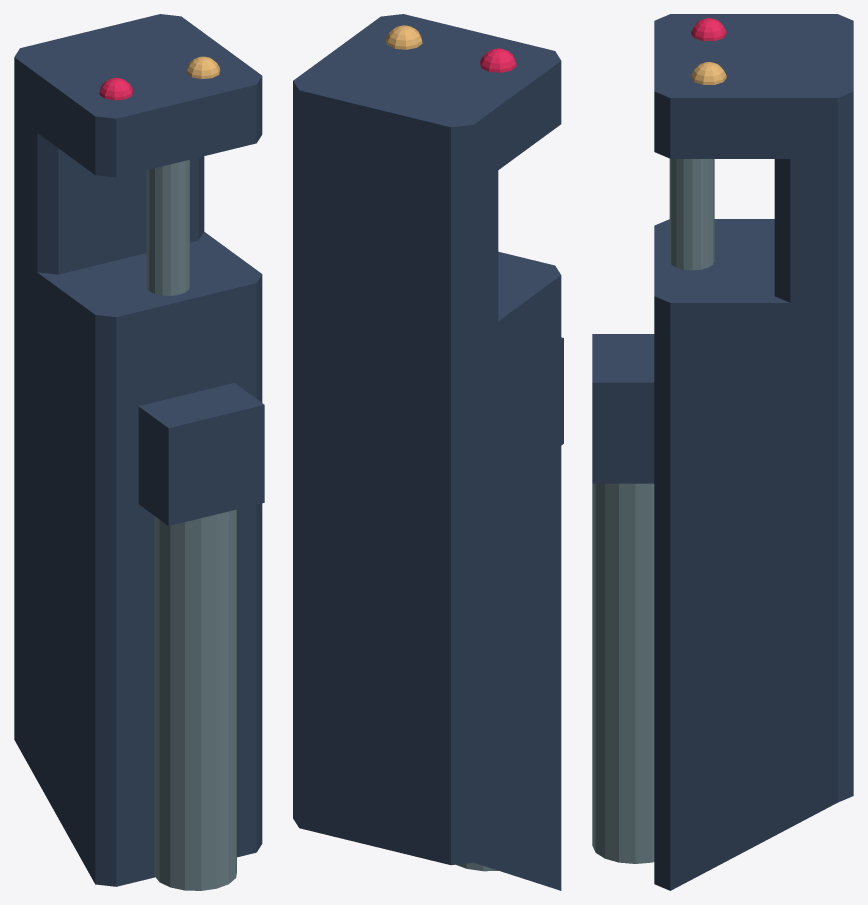
Rendered from Fuel_absorber_Body.fbx.
The picture shows the model from 3 angles, left to right: view 1: azimuth 30°, elevation 25°; view 2: azimuth 150°, elevation 25°; view 3: azimuth 270°, elevation 25°; orthographic projection. The views are drawn at different scales.
Visible parts, largest first — view 1: Cube, Cylinder.001, Cube.002, Cube.003, Cube.001, Cylinder.002, Sphere.001, Sphere; view 2: Cube, Cube.003, Cube.002, Sphere, Sphere.001; view 3: Cube, Cube.002, Cylinder.001, Cube.003, Cube.001, Cylinder.002, Sphere, Sphere.001.
Boxes of the visible parts, box(x1,y1,x2,y2) form: Cube: box(14, 231, 262, 886); Cylinder.001: box(154, 509, 236, 890); Cube.002: box(14, 14, 262, 177); Cube.003: box(14, 116, 204, 282); Cube.001: box(138, 383, 264, 525); Cylinder.002: box(146, 159, 189, 295); Sphere.001: box(186, 56, 220, 79); Sphere: box(99, 77, 133, 100); Cube: box(293, 251, 561, 890); Cube.003: box(293, 131, 498, 344); Cube.002: box(293, 14, 561, 190); Sphere: box(480, 48, 516, 72); Sphere.001: box(386, 25, 422, 49); Cube: box(654, 219, 853, 890); Cube.002: box(654, 14, 853, 158); Cylinder.001: box(592, 483, 654, 863); Cube.003: box(774, 139, 853, 314); Cube.001: box(592, 334, 654, 483); Cylinder.002: box(669, 159, 714, 270); Sphere: box(691, 18, 726, 40); Sphere.001: box(691, 62, 726, 84).
Bounding box in the file's own units: 67.46 × 302 × 88.51.
